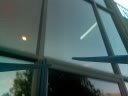window: (74, 1, 128, 96), (1, 1, 40, 96)
